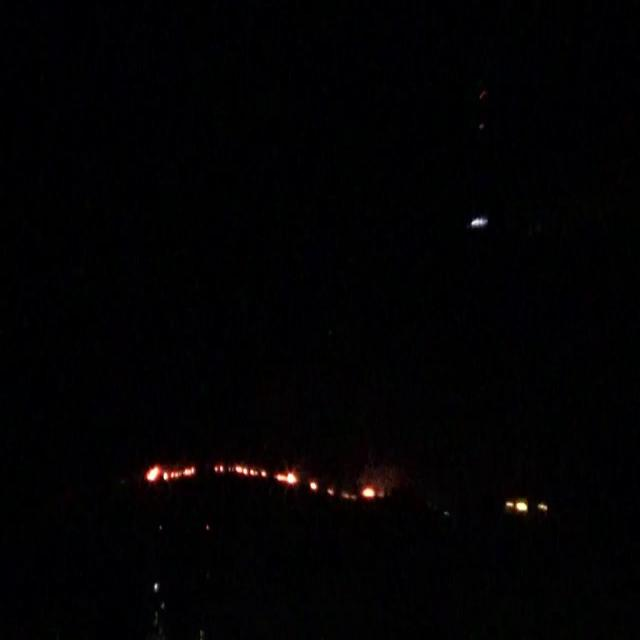Fire: (142, 465, 192, 481), (217, 463, 265, 477), (338, 486, 378, 502), (505, 498, 527, 514), (277, 470, 297, 486), (311, 480, 317, 490)
